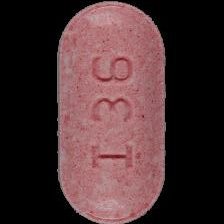23155-057: (0, 0, 224, 224)
